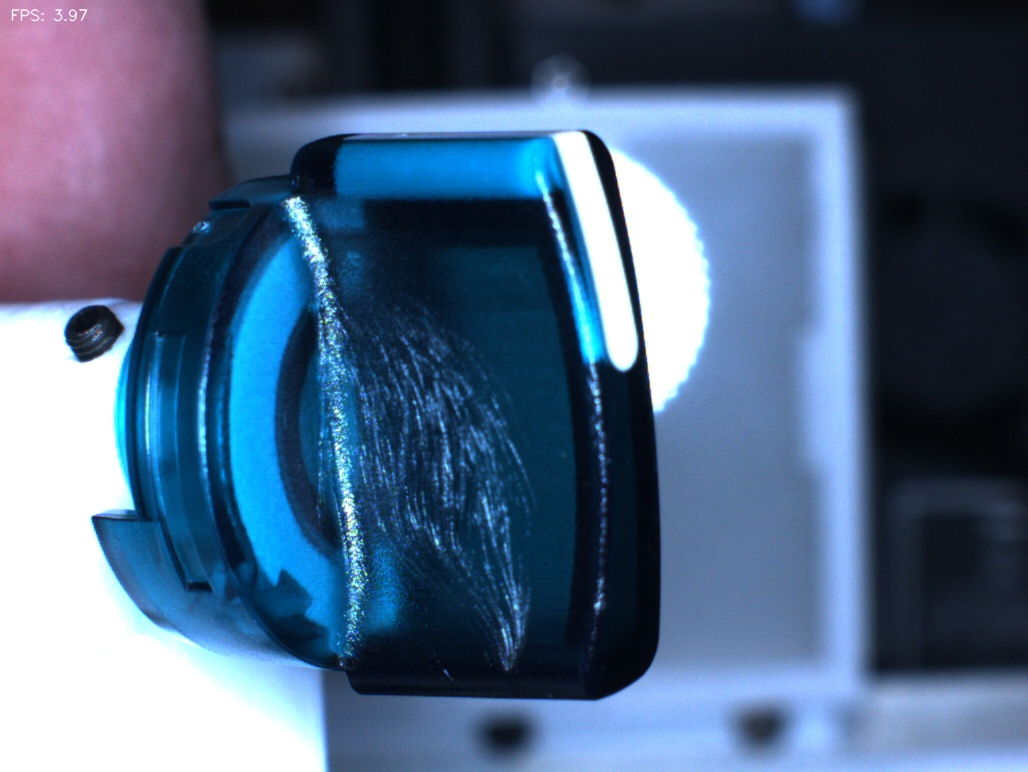Givrage: (338, 285, 547, 688)
